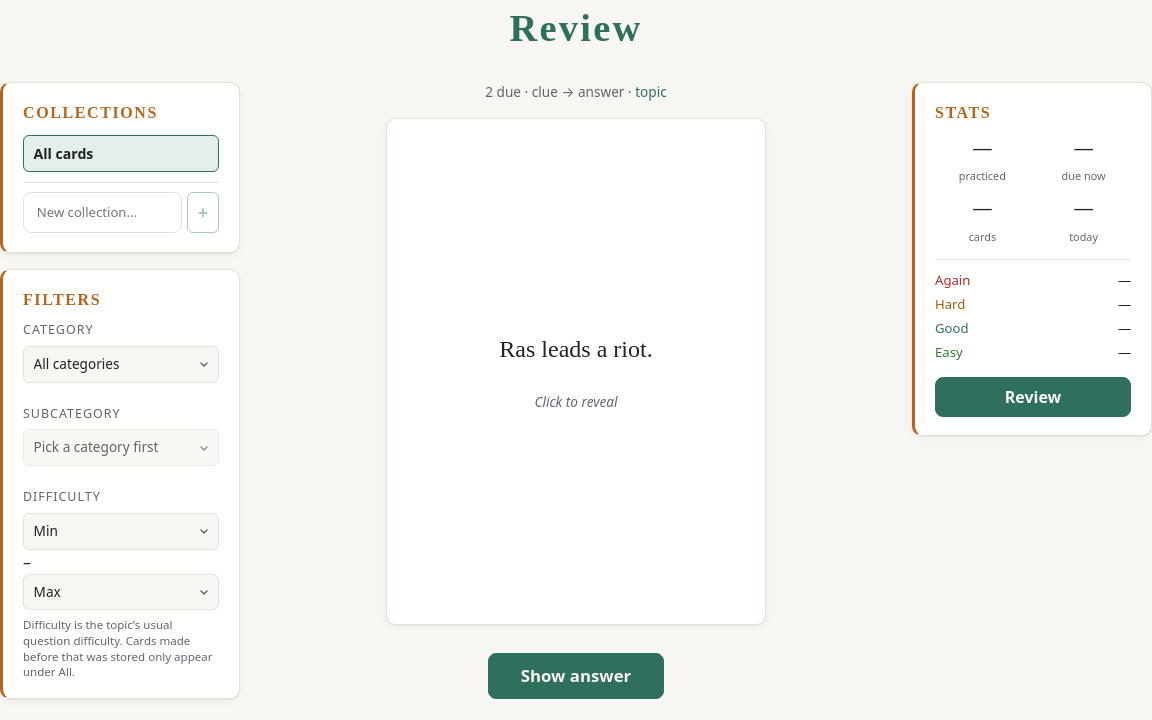
it: review flips a card, rates it and moves on
Expected: the text "Ras leads a riot." is shown, [499,330,653,368]
Click the button "Show answer": (576, 676) [488,653,664,699]
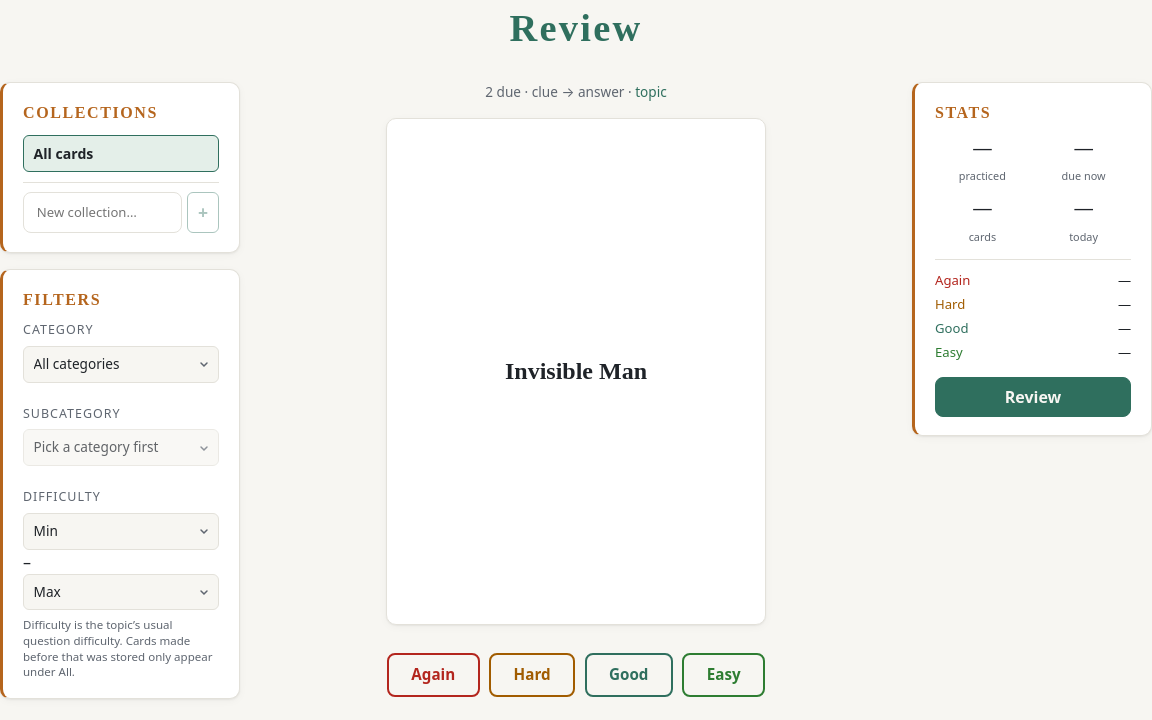
Expected: the text "Invisible Man" is shown, [505,352,647,390]
Click the button "Good": (629, 675) [585,653,673,697]
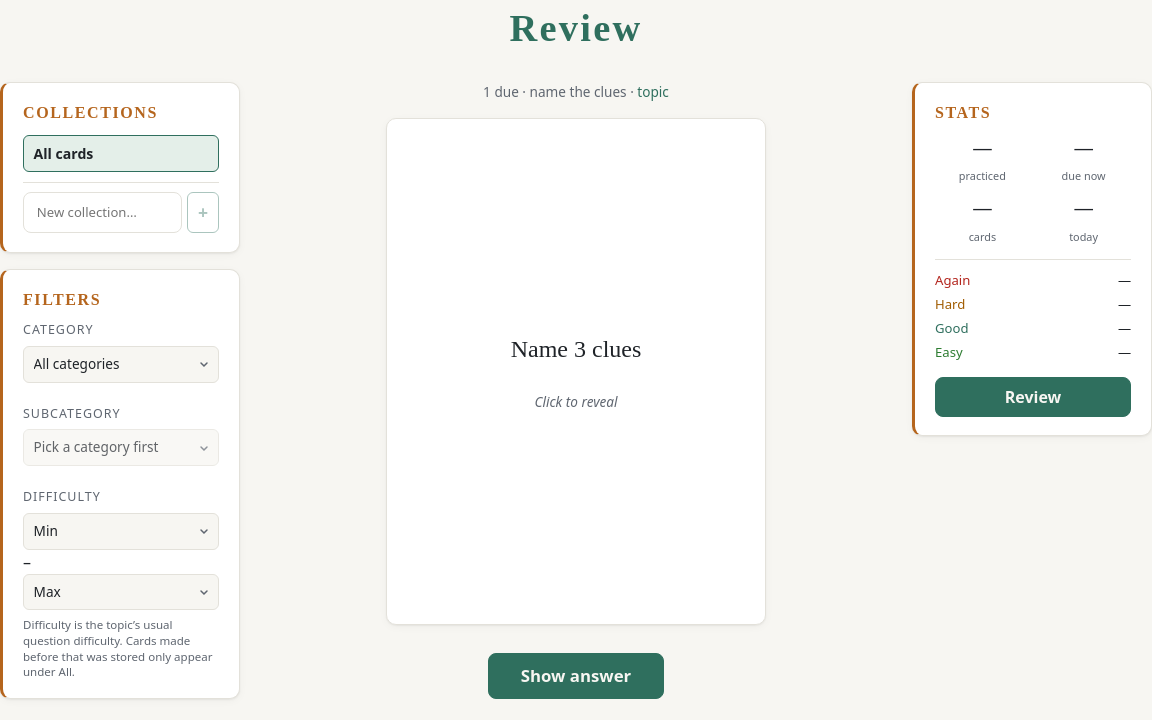
Expected: the text "Name 3 clues" is shown, [511,330,641,368]
